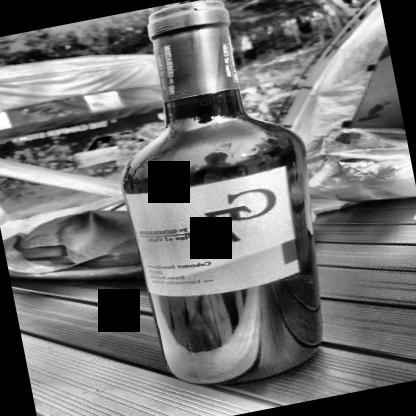G7: (124, 164, 307, 304)
